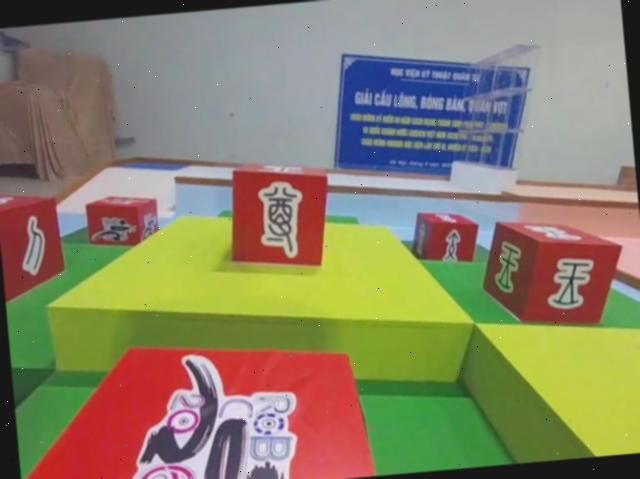R1: (8, 322, 375, 479), (81, 190, 161, 250)
R2 Fake: (223, 153, 335, 274)
R2 Real: (475, 209, 628, 335), (0, 186, 67, 304), (409, 207, 483, 268)
